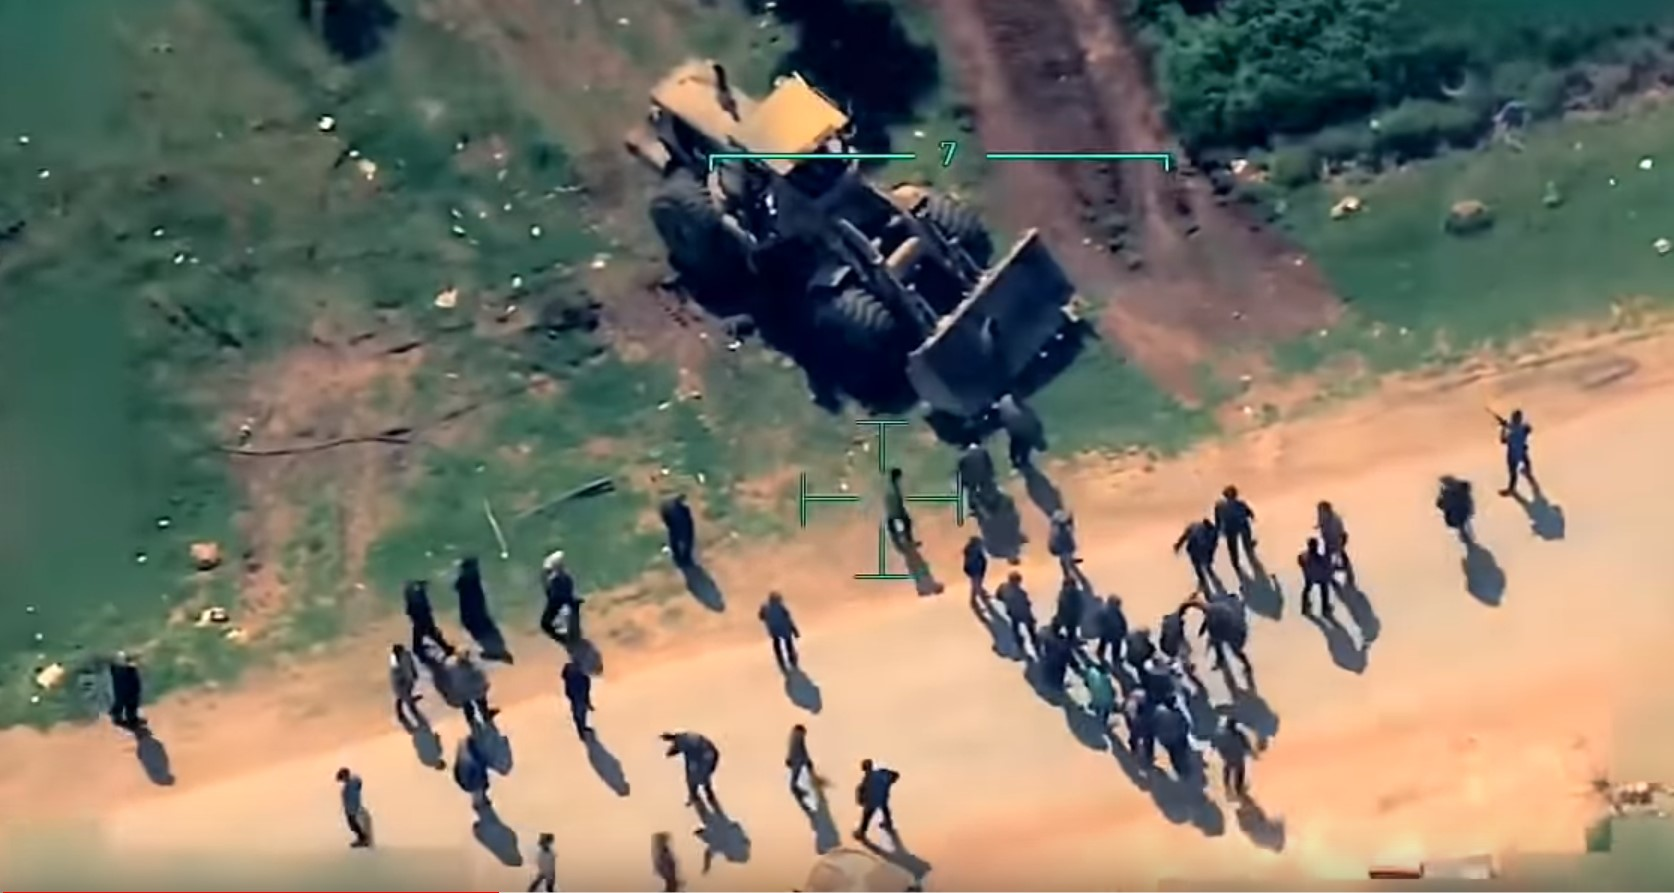araba: (639, 55, 1076, 413)
insan: (850, 751, 919, 848), (535, 544, 603, 638), (447, 552, 511, 652), (656, 730, 727, 812), (874, 453, 928, 559), (1487, 404, 1547, 499), (660, 479, 711, 587), (376, 632, 436, 720), (757, 586, 815, 672), (1207, 587, 1259, 680), (782, 716, 840, 798), (954, 524, 1003, 623), (552, 653, 604, 744), (457, 722, 509, 811), (1213, 484, 1271, 564), (97, 654, 155, 730), (1172, 512, 1225, 596), (999, 380, 1043, 476), (331, 753, 375, 848), (1295, 532, 1340, 620), (1216, 711, 1259, 796), (997, 559, 1038, 645), (1435, 471, 1484, 542), (1310, 496, 1355, 568), (522, 830, 570, 893), (1044, 508, 1085, 575), (648, 820, 685, 893)
